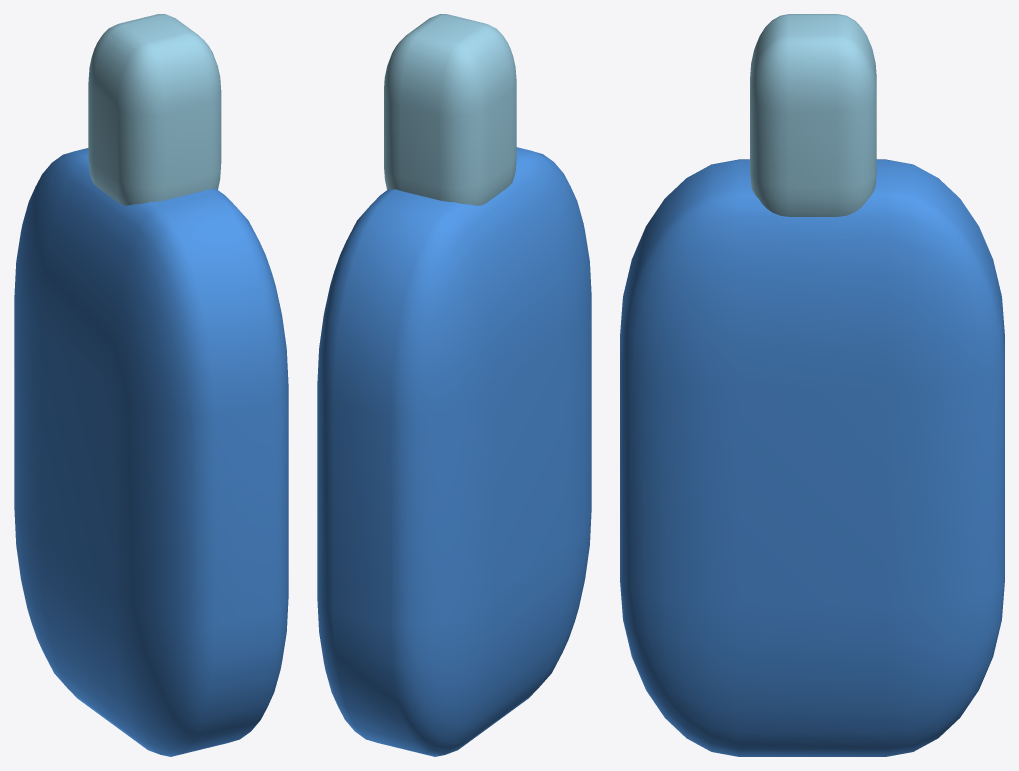
The model's file is player.gltf.
3 renders of one model, left to right at view 1: azimuth 30°, elevation 25°; view 2: azimuth 150°, elevation 25°; view 3: azimuth 270°, elevation 25°, orthographic. The views are drawn at different scales.
Visible parts, largest first — view 1: Cube, Cube.001; view 2: Cube, Cube.001; view 3: Cube, Cube.001.
Boxes of the visible parts, <box> form: Cube: <box>14,148,288,756</box>; Cube.001: <box>88,14,221,205</box>; Cube: <box>317,147,591,756</box>; Cube.001: <box>384,14,516,205</box>; Cube: <box>620,159,1004,756</box>; Cube.001: <box>750,14,876,216</box>.
Size of the model in its own units: 3.57 by 15.72 by 7.64.
